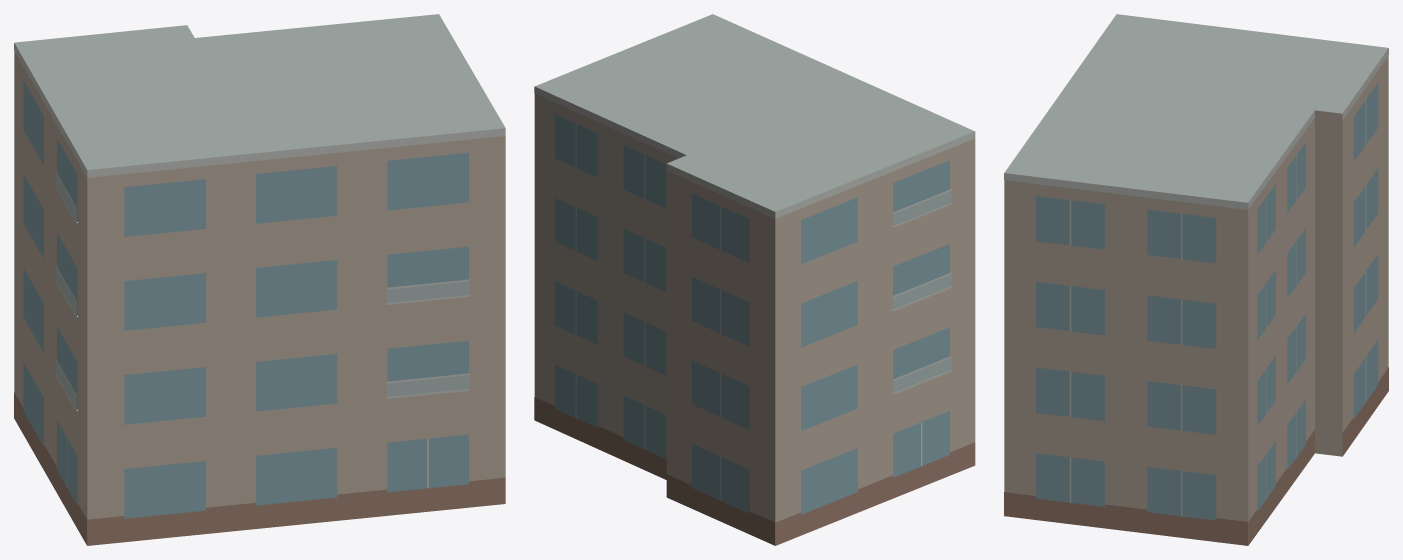
File: survey-upis-32958992.glb
The picture shows the model from 3 angles, left to right: view 1: azimuth 30°, elevation 25°; view 2: azimuth 150°, elevation 25°; view 3: azimuth 270°, elevation 25°; orthographic projection. The views are drawn at different scales.
Visible parts, largest first — view 1: survey-upis-32958992.tmp; view 2: survey-upis-32958992.tmp; view 3: survey-upis-32958992.tmp.
Boxes of the visible parts, <box> form: survey-upis-32958992.tmp: <box>14,14,505,545</box>; survey-upis-32958992.tmp: <box>534,14,975,545</box>; survey-upis-32958992.tmp: <box>1004,14,1388,545</box>.
Bounding box in the file's own units: 13.94 × 11.8 × 12.
